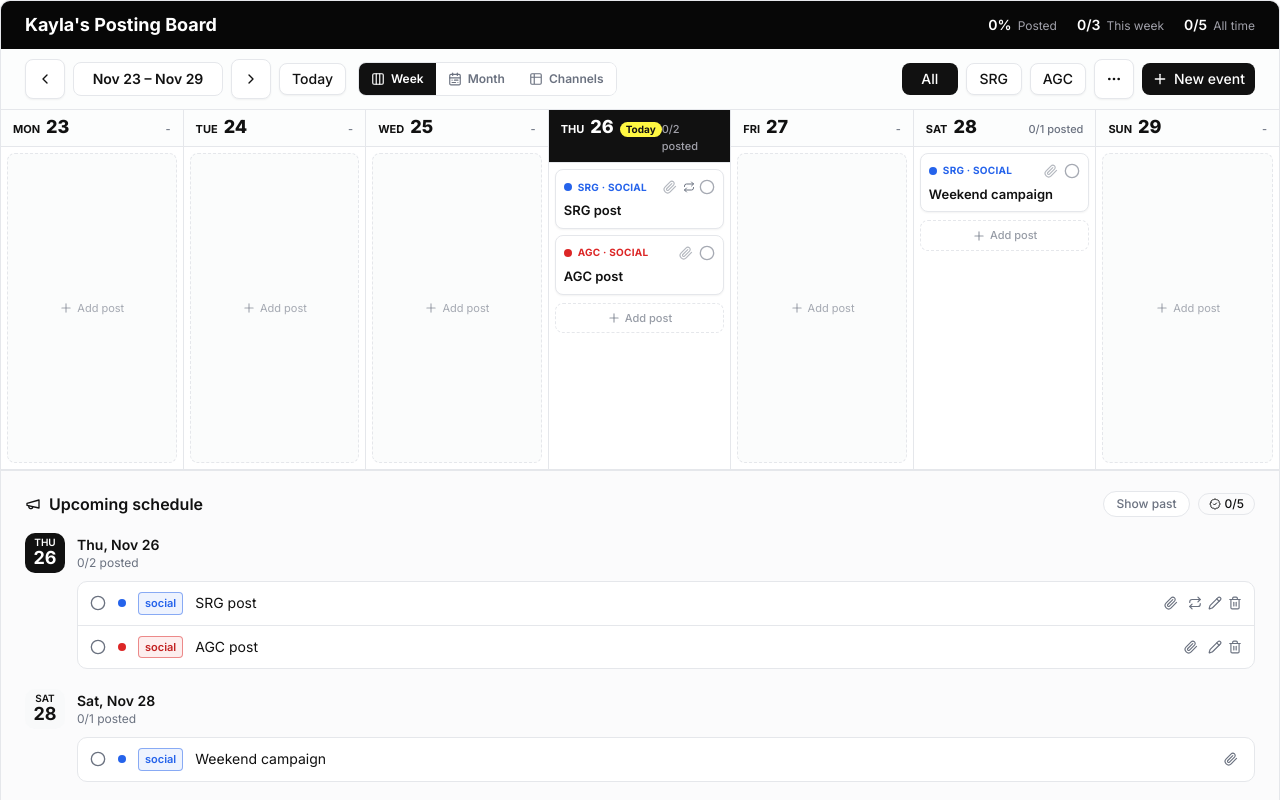
MarketingCalendar controls › lists a series' dates and removes one without touching the rest
This screenshot has width=1280, height=800.
Expected: the heading "Kayla's Posting Board" is shown, x1=25 y1=11 x2=217 y2=39
Click the button "SRG · Social SRG post" at x=640, y=199, box x1=555 y1=169 x2=724 y2=229
(page scrolled)
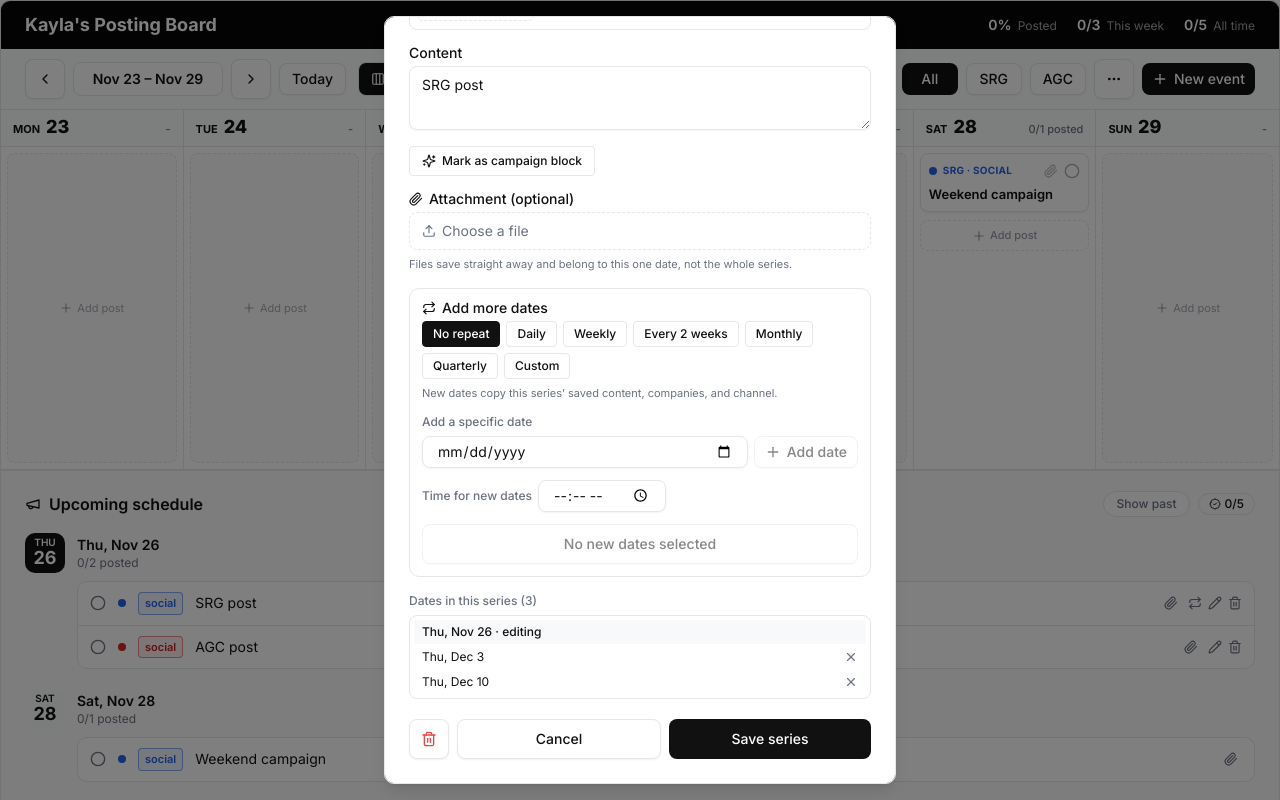
Now the text "Dates in this series (3)" is shown, box x1=409 y1=592 x2=537 y2=608
Click the button named "Remove 2026-12-03 from the series" at x=851, y=656, box x1=844 y1=650 x2=858 y2=664
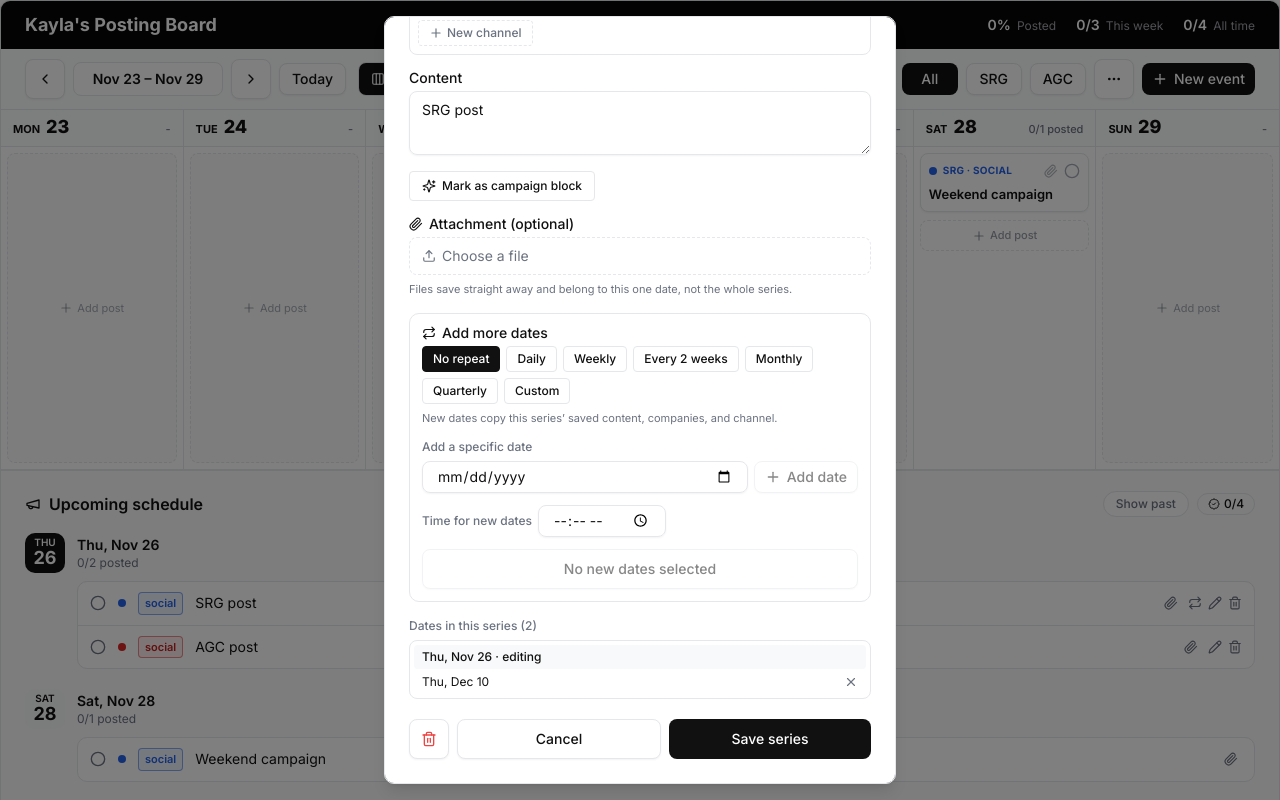
Now the dialog "Edit Marketing Event" is shown, box x1=384 y1=16 x2=896 y2=784
Now the text "Dates in this series (2)" is shown, box x1=409 y1=618 x2=537 y2=632
